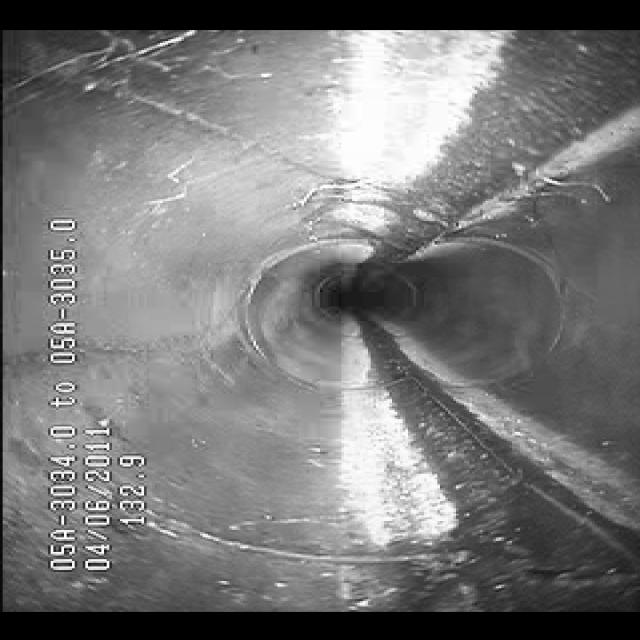Crack: (137, 107, 383, 219)
